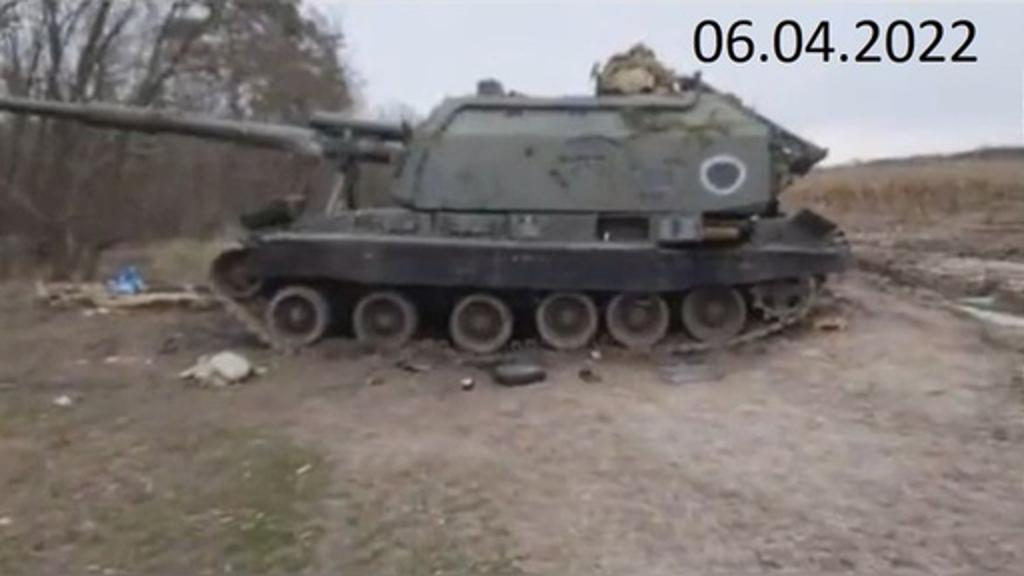ART: (0, 62, 850, 356)
